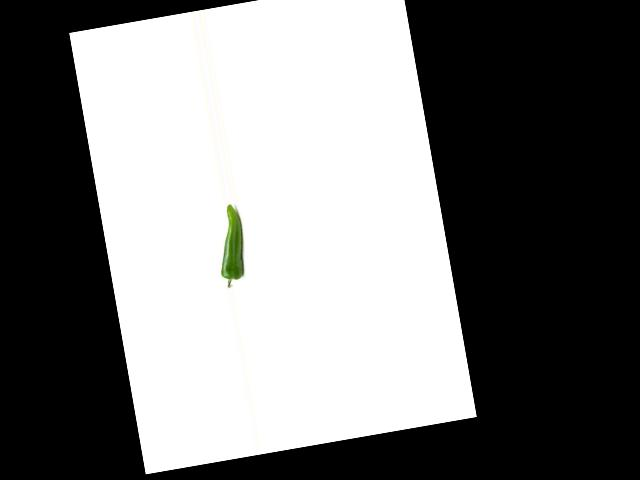bell_pepper: (208, 202, 253, 292)
